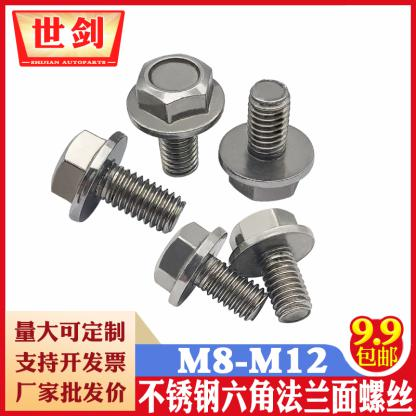FOD: (50, 126, 187, 236), (124, 51, 228, 178), (216, 79, 316, 206), (149, 219, 269, 322), (228, 206, 316, 324)
